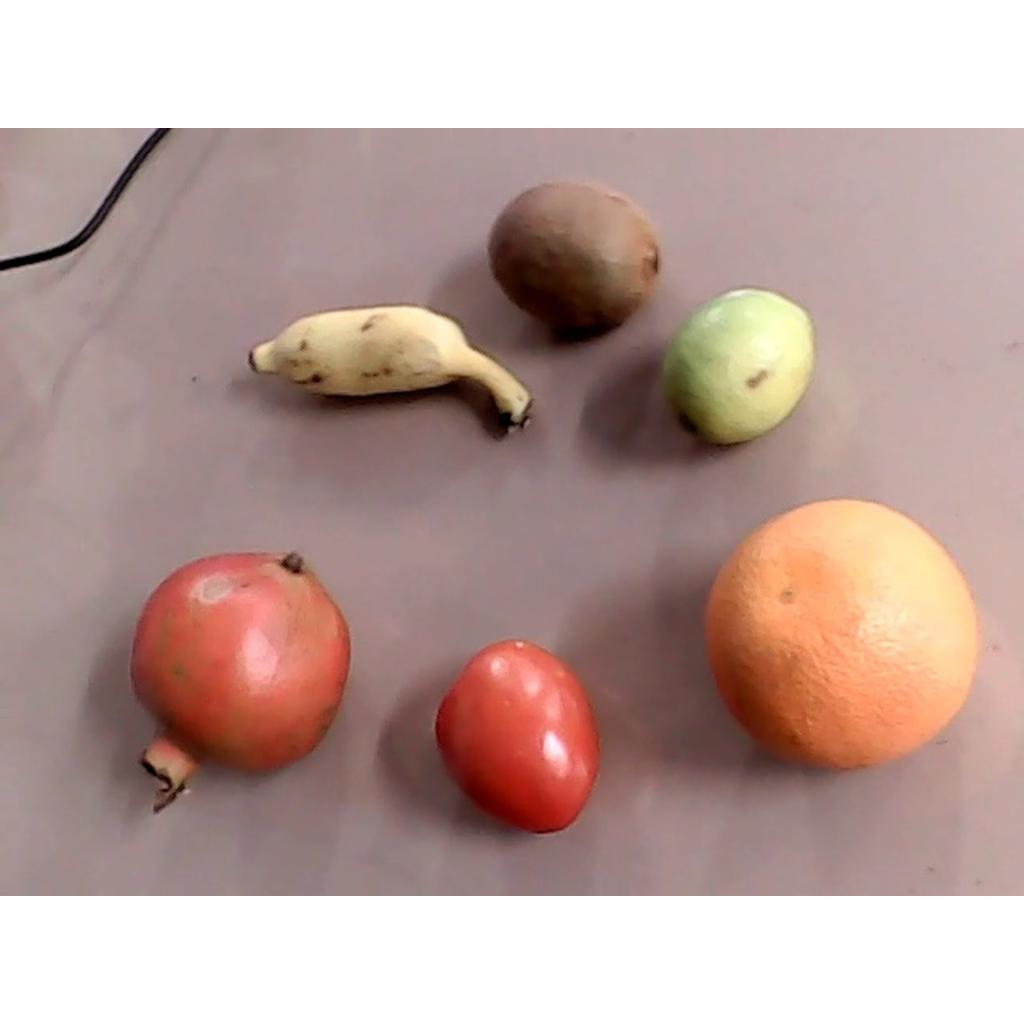kiwi: (486, 180, 660, 325)
lemon: (659, 288, 819, 443)
orange: (704, 497, 980, 772)
pomegranate: (131, 552, 352, 816)
tomato: (436, 639, 601, 835)
